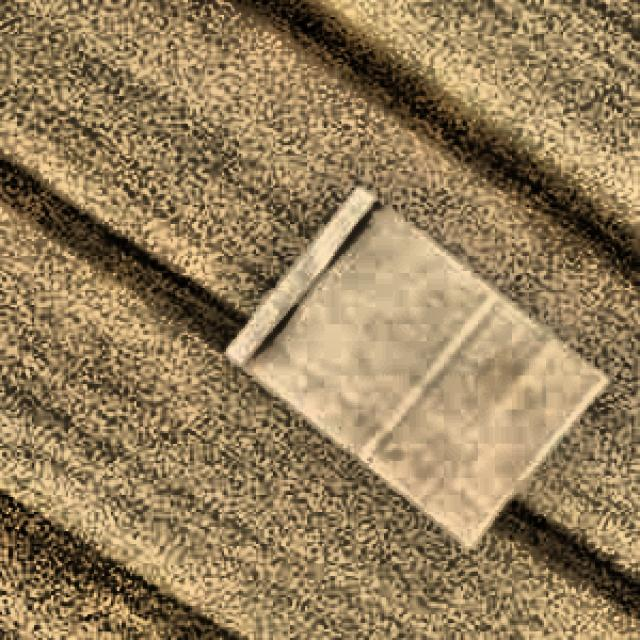Paper-bag: (191, 192, 607, 551)
